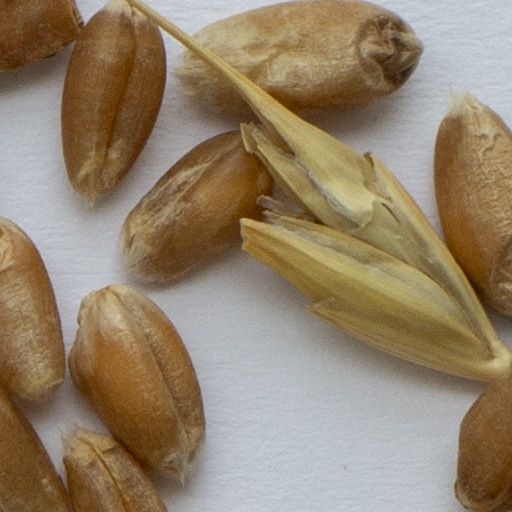Peel-poly: (124, 0, 511, 378), (0, 0, 85, 72)
Wheat-grain-poly: (453, 371, 511, 511)
